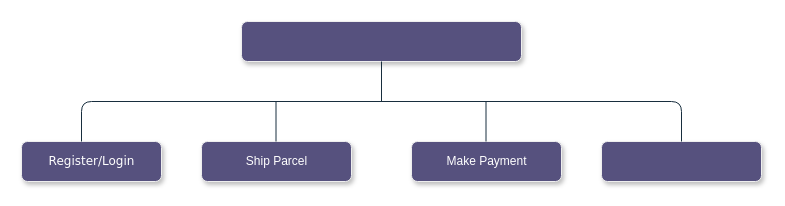
Image size: 785x206. Some labels were removed from this diagram. The shapes that lost their labels are listed below. From the top down, each one's centre as x and y in pixels, then its label:
the point at 382,42: Courier Services
the point at 682,162: Track Parcel
